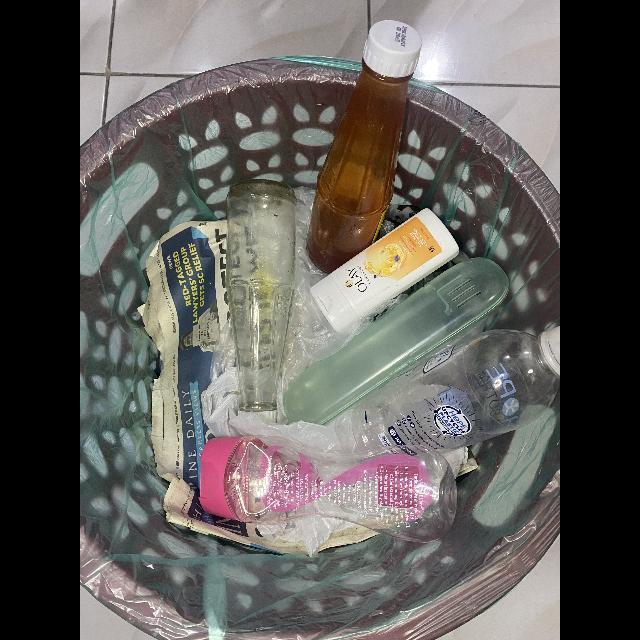glass: (305, 20, 422, 275), (226, 179, 296, 423)
paper: (137, 219, 309, 555)
plastic: (283, 258, 510, 426), (199, 435, 457, 543), (352, 326, 560, 454), (310, 208, 459, 333)
